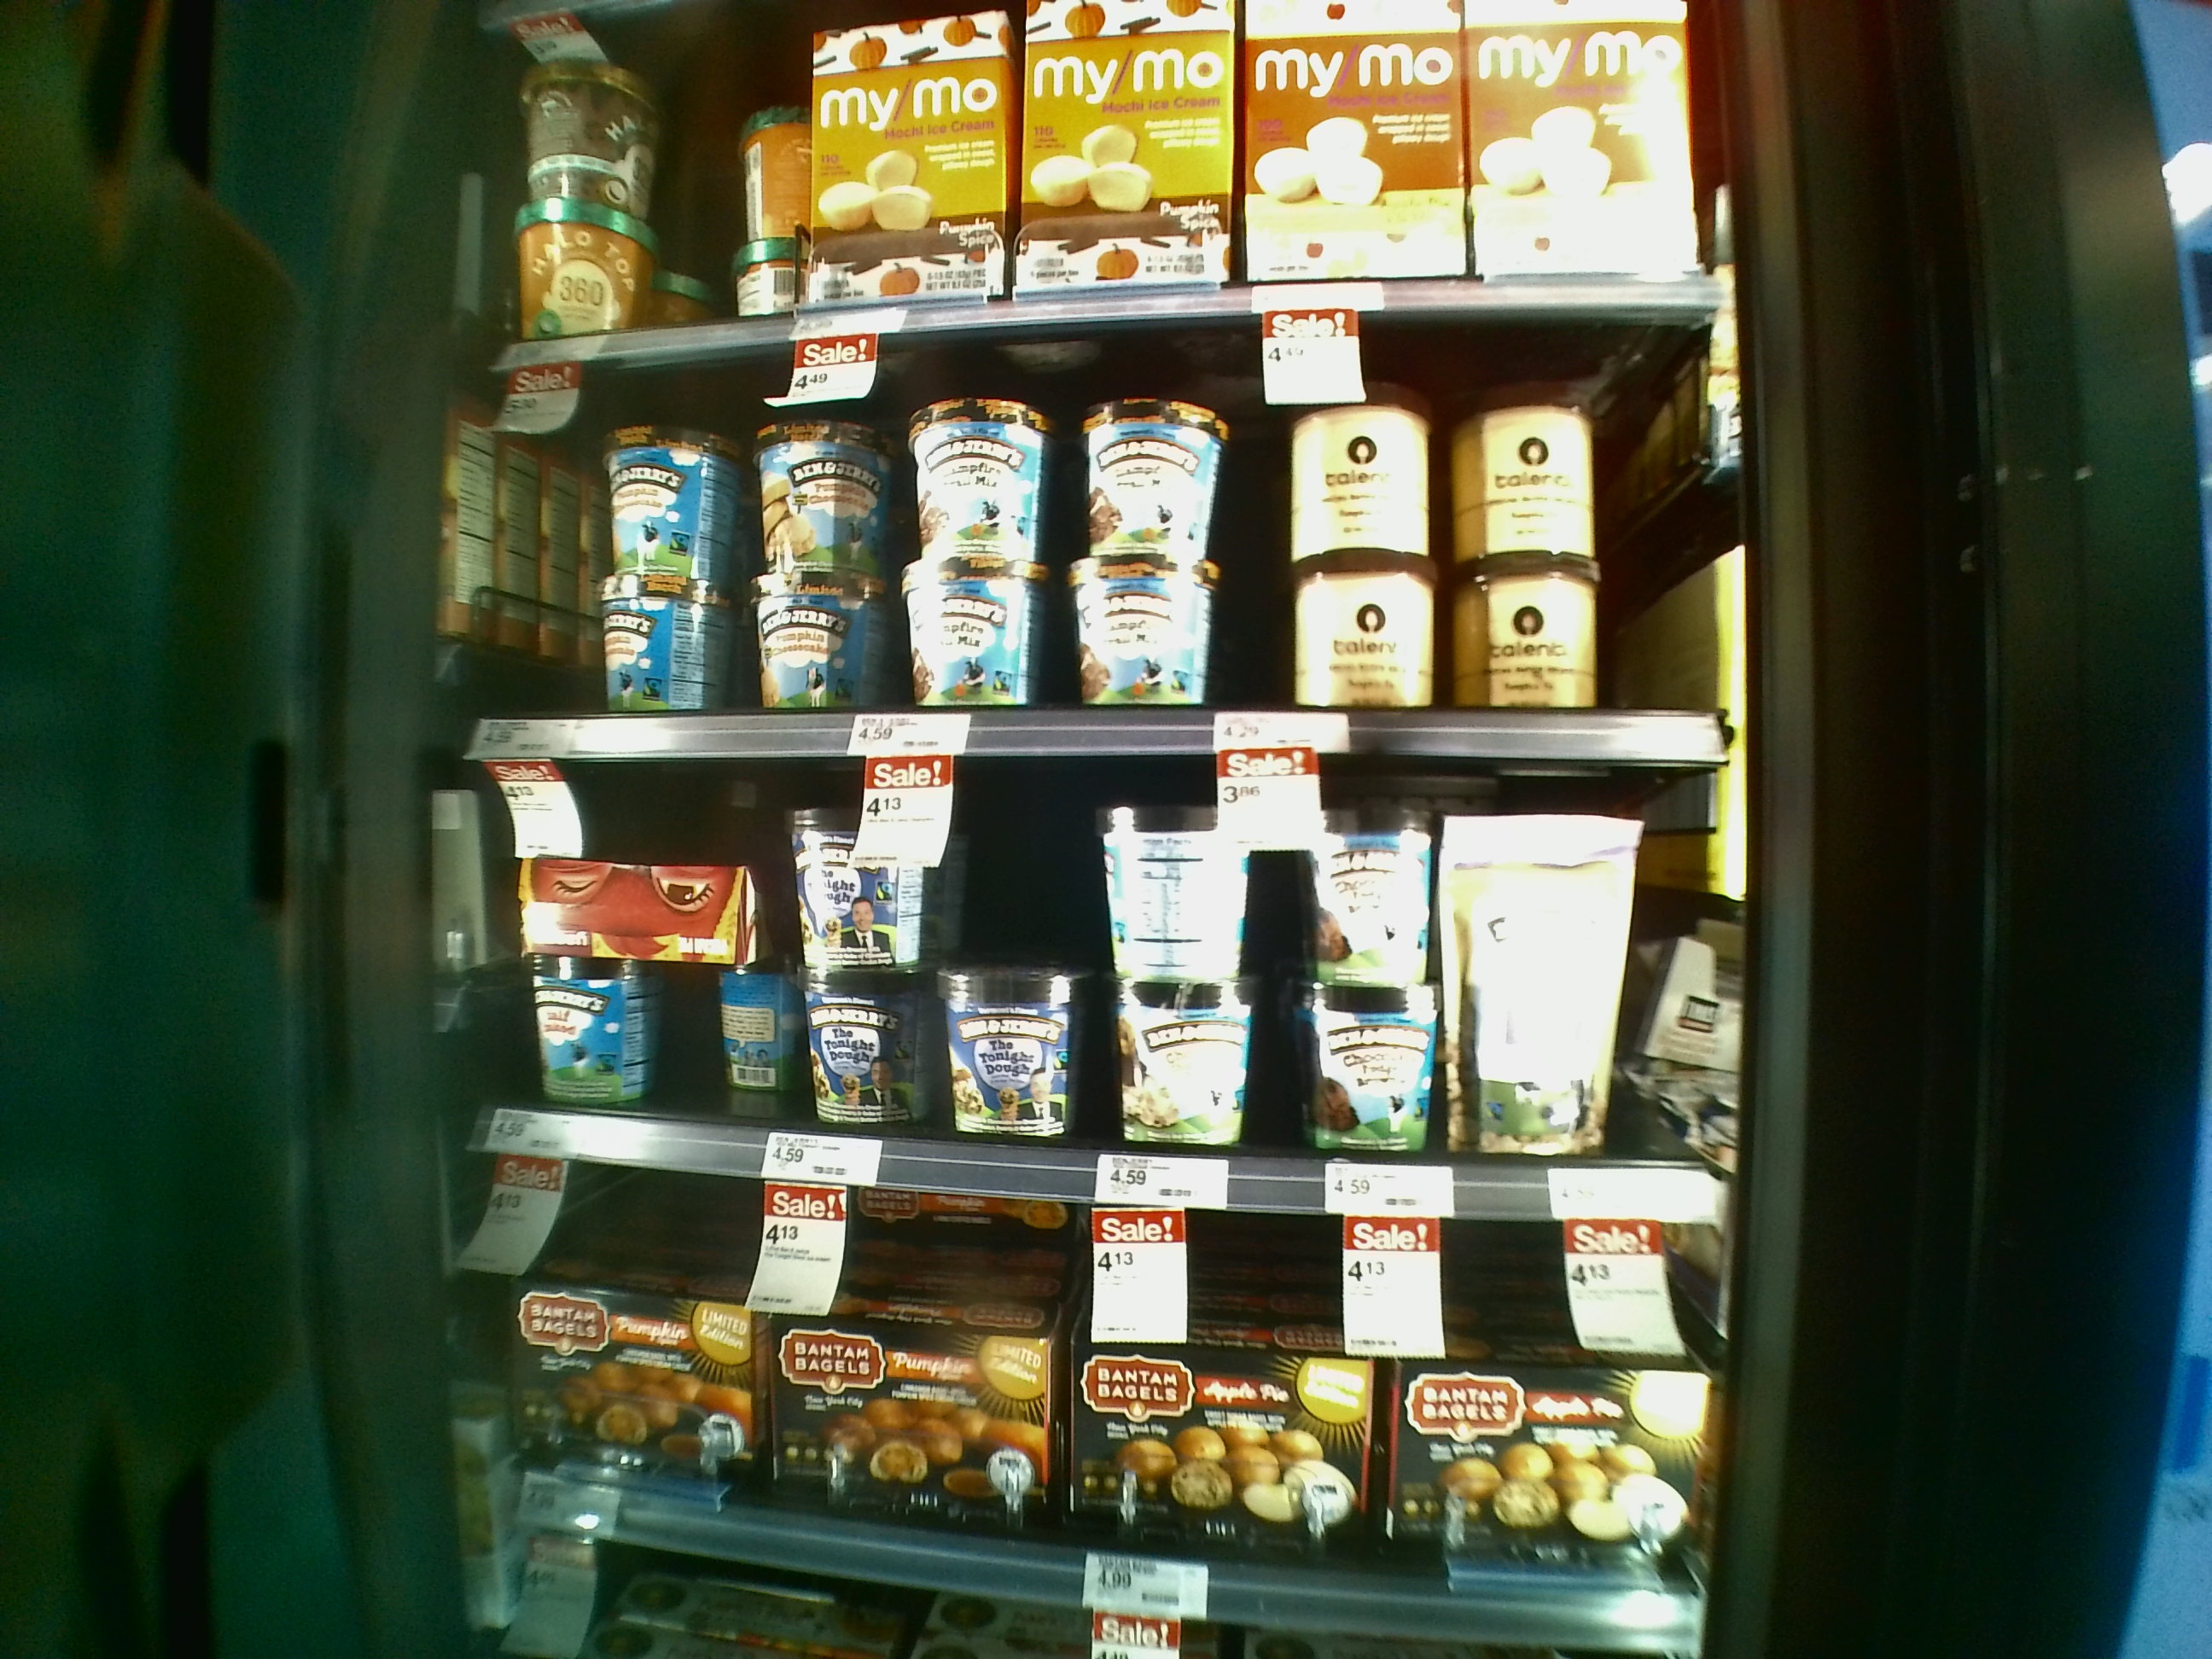shelf: (444, 1129, 1710, 1642), (449, 721, 1737, 1218), (439, 314, 1763, 765)
